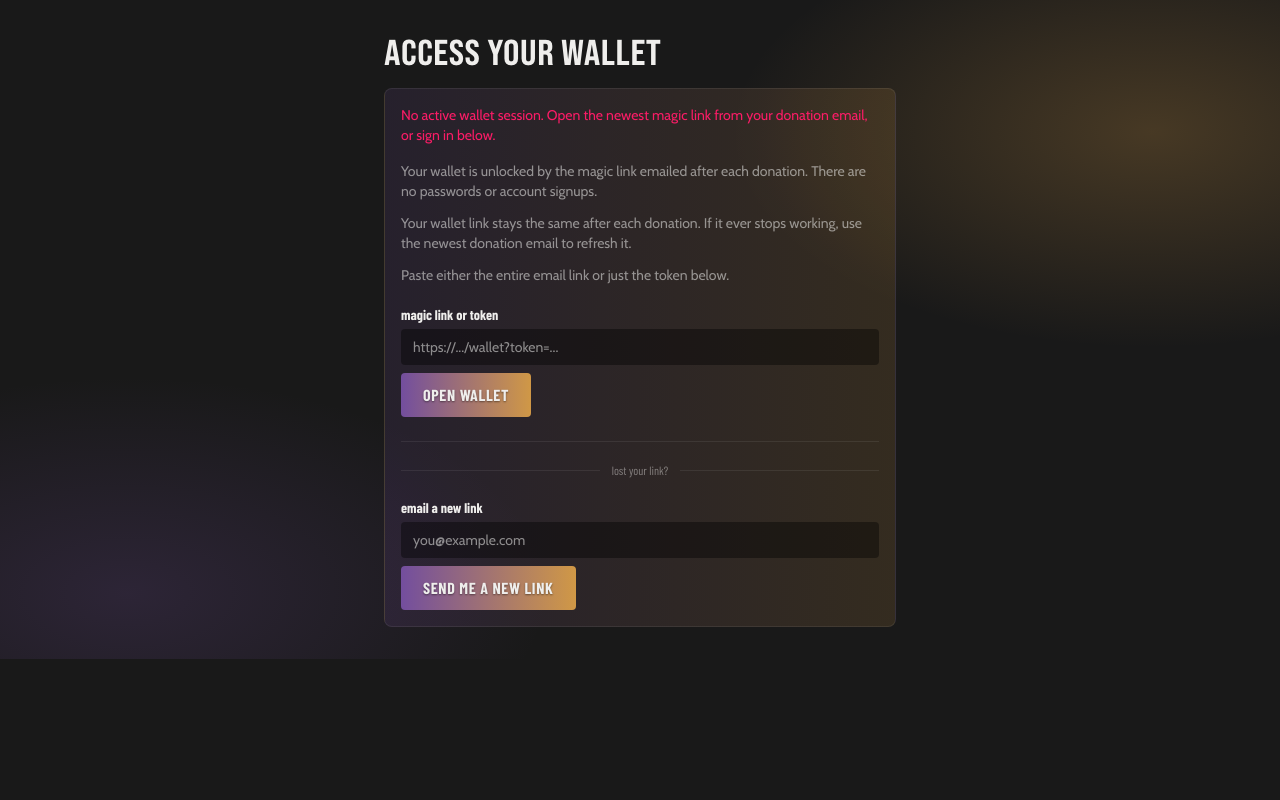
Scenario: MyWallet › shows a validation error for an invalid email address
Type "notanemail" into the field with placeholder "you@example.com" at x=640, y=540, box left=401, top=522, right=879, bottom=558
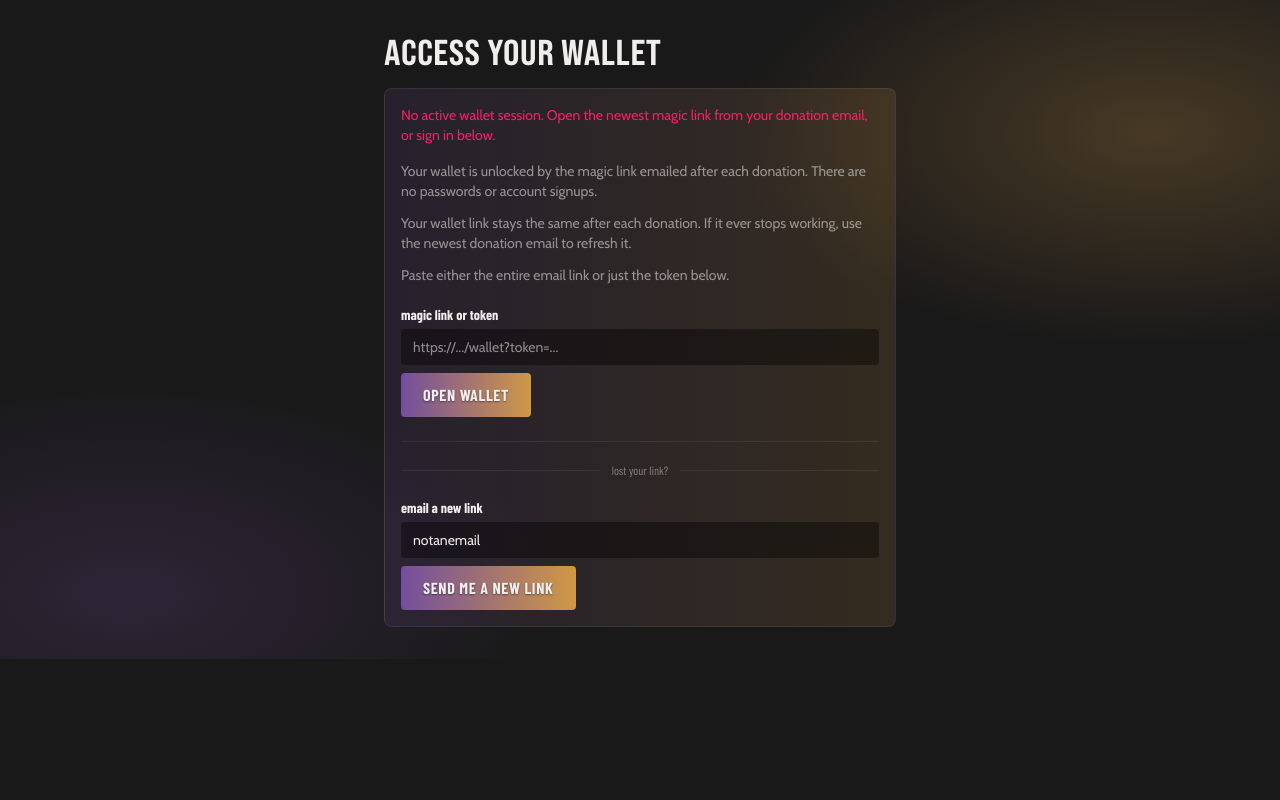
Click the button "send me a new link" at x=488, y=588, box left=401, top=566, right=576, bottom=610
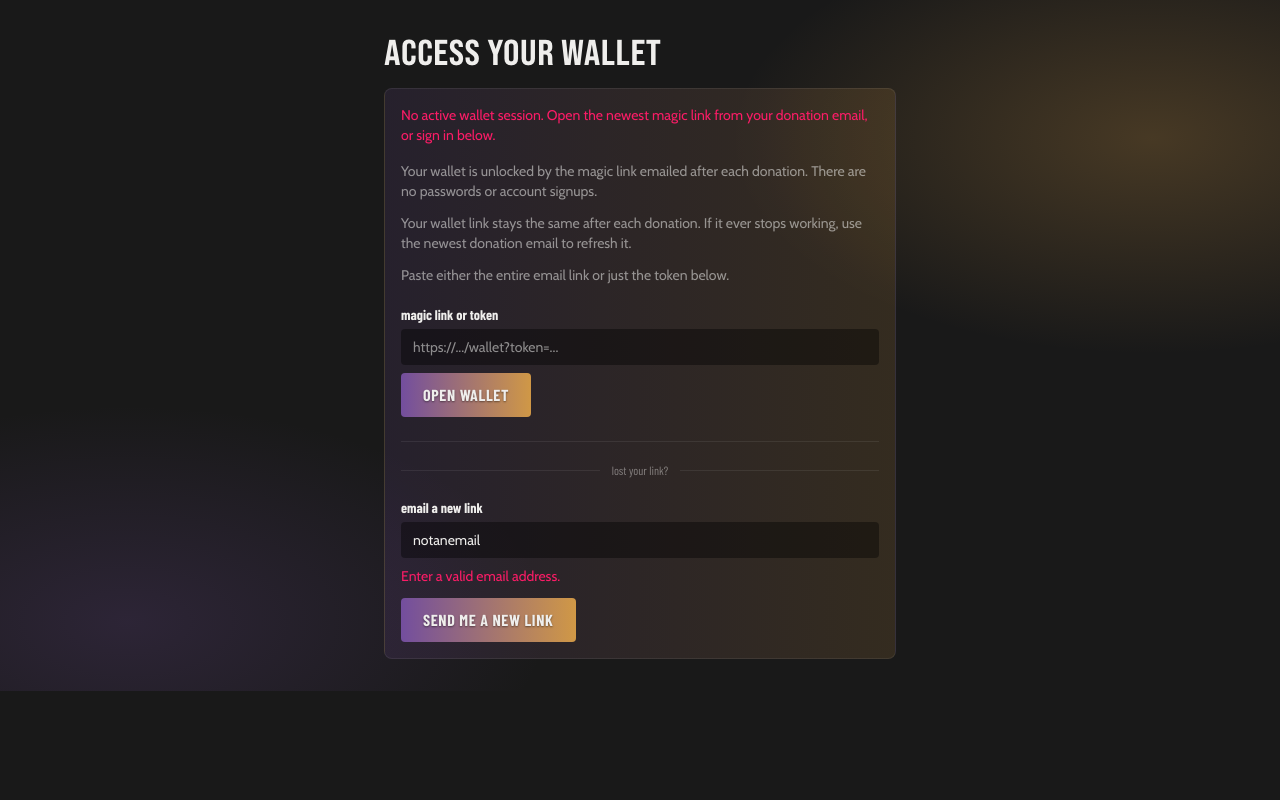
Check: the text "Enter a valid email address." is shown, box left=401, top=567, right=560, bottom=585
